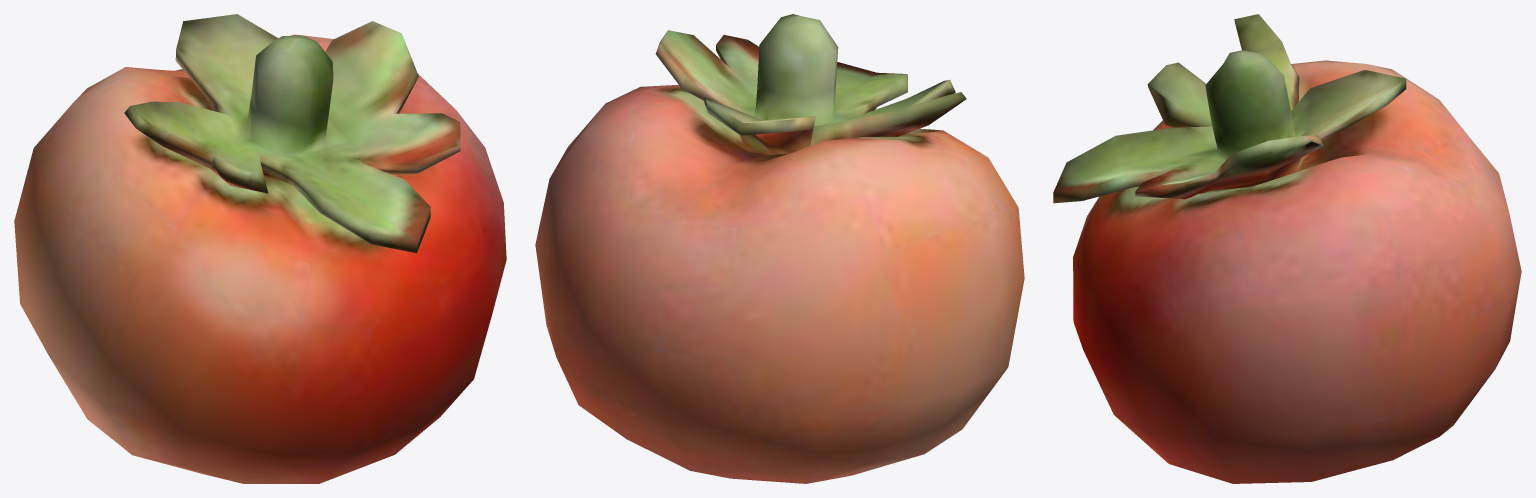
File: tomato.glb
3 views of the same model, side by side, from view 1: azimuth 30°, elevation 25°; view 2: azimuth 150°, elevation 25°; view 3: azimuth 270°, elevation 25° (orthographic). The views are drawn at different scales.
Parts seen in each view (by area): view 1: Tomato; view 2: Tomato; view 3: Tomato.
Part boxes in pixels (box(x1,y1,x2,y2)): Tomato: box(14, 14, 506, 483); Tomato: box(535, 14, 1024, 483); Tomato: box(1053, 14, 1521, 483).
Size of the model in its own units: 1.38 by 1.33 by 1.41.
1 material, 1 textured.
